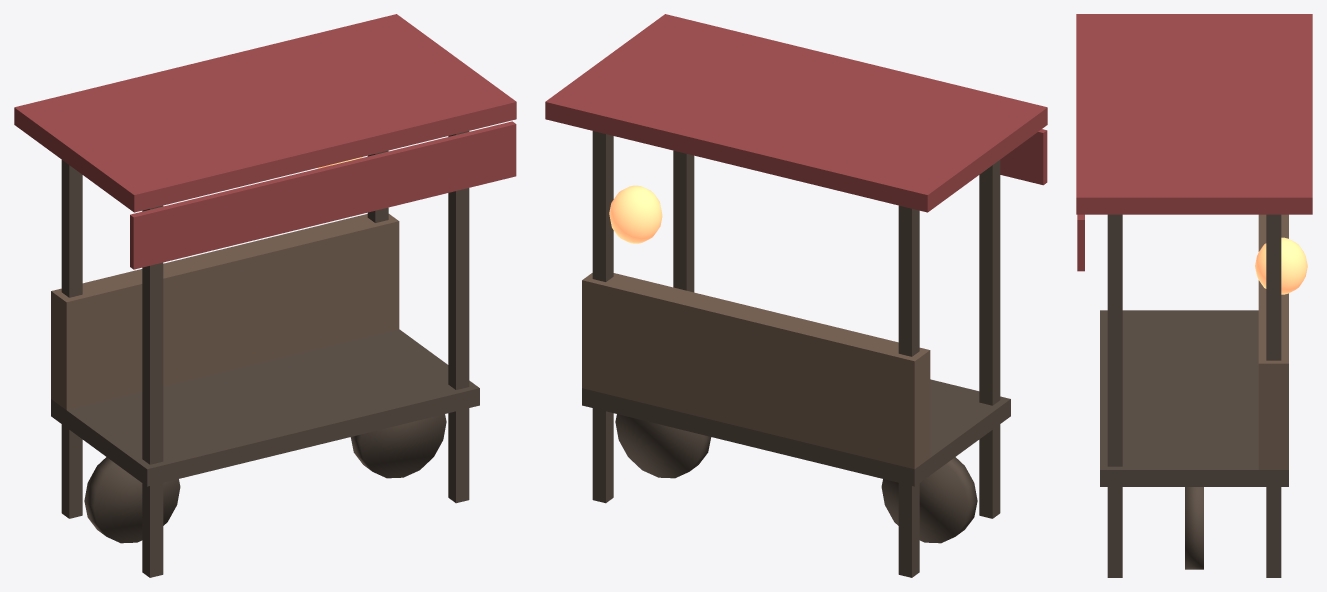
The model's file is prop_yatai.glb.
3 views of the same model, side by side, from view 1: azimuth 30°, elevation 25°; view 2: azimuth 150°, elevation 25°; view 3: azimuth 270°, elevation 25° (orthographic).
Parts seen in each view (by area): view 1: yatai; view 2: yatai; view 3: yatai.
Part boxes in pixels (x1,y1,x2,y2): yatai: [14, 14, 516, 577]; yatai: [545, 14, 1047, 577]; yatai: [1076, 14, 1312, 577].
Bounding box in the file's own units: 2.3 × 2.31 × 1.25.
